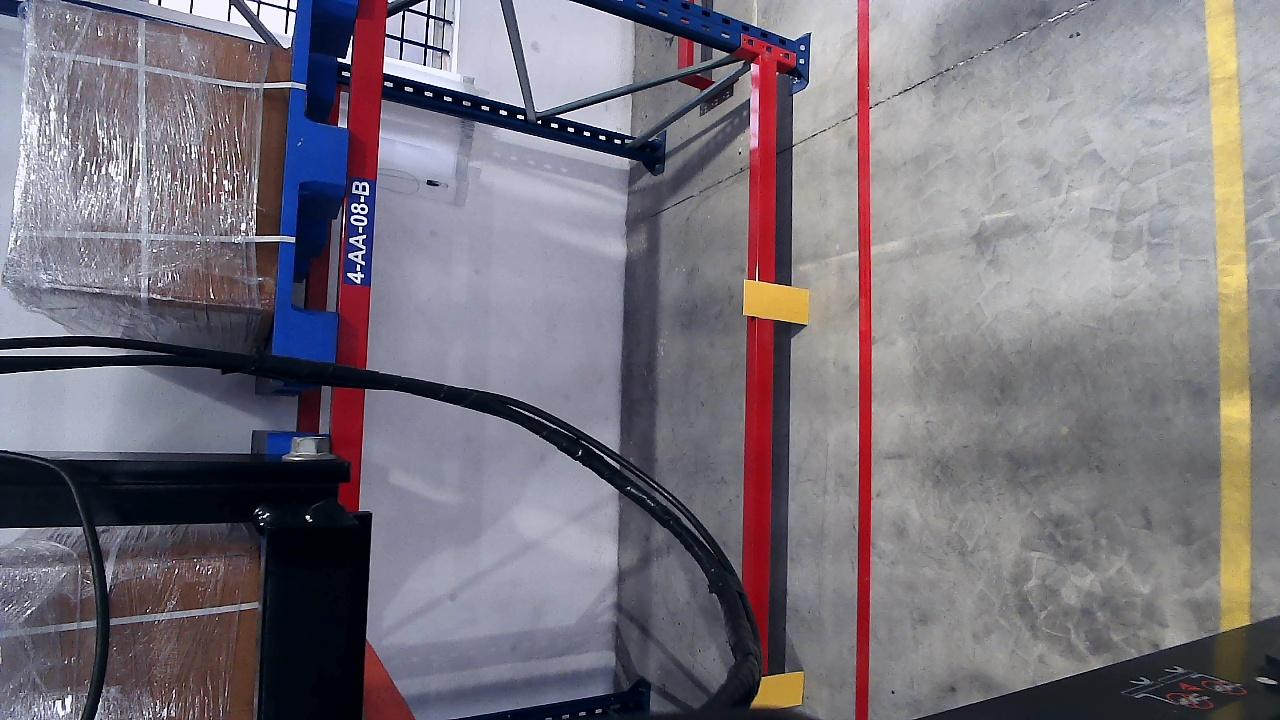h_rack: (331, 0, 392, 511)
orange_strip: (743, 280, 808, 325), (750, 670, 804, 706)
red_line: (737, 60, 778, 669), (854, 0, 873, 720)
small_pallet: (264, 1, 363, 365)
yellow_line: (1208, 0, 1254, 620)
